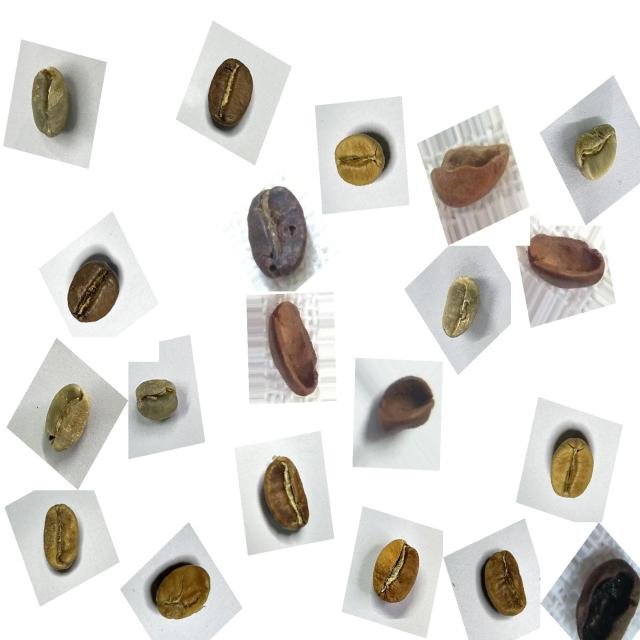bad: (256, 293, 331, 408), (238, 177, 316, 286), (521, 222, 612, 308), (428, 129, 515, 216), (566, 545, 640, 638), (366, 361, 440, 447)
green: (16, 56, 86, 152), (33, 375, 103, 469), (428, 267, 492, 351), (566, 113, 631, 192), (127, 368, 187, 435)
light: (248, 446, 322, 545), (539, 421, 609, 514), (365, 528, 434, 620), (325, 120, 398, 202), (29, 499, 94, 587)
medium: (146, 552, 222, 637), (56, 248, 131, 334), (198, 49, 268, 140), (472, 541, 539, 630)
